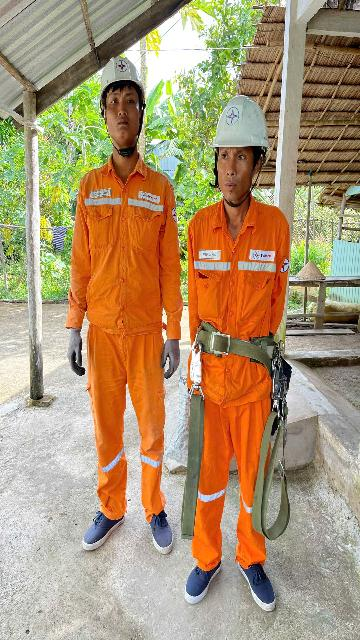gloves: (57, 328, 92, 384), (148, 333, 181, 381)
harness: (185, 313, 288, 368)
helmet: (210, 97, 274, 155), (83, 49, 156, 96)
shoes: (236, 558, 286, 620), (176, 550, 231, 604), (73, 496, 124, 554), (136, 509, 185, 559)
